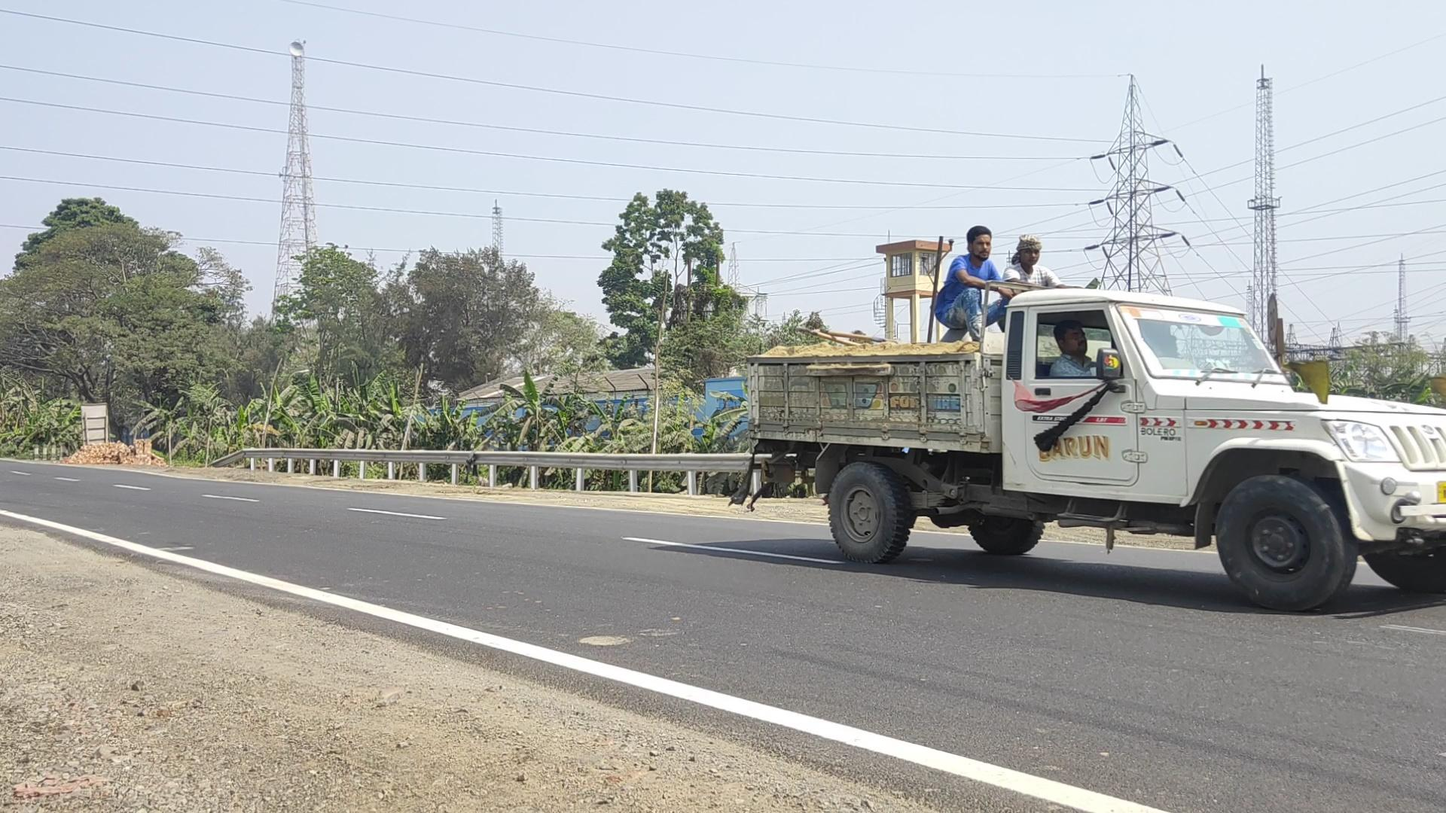van: (746, 226, 1446, 613)
